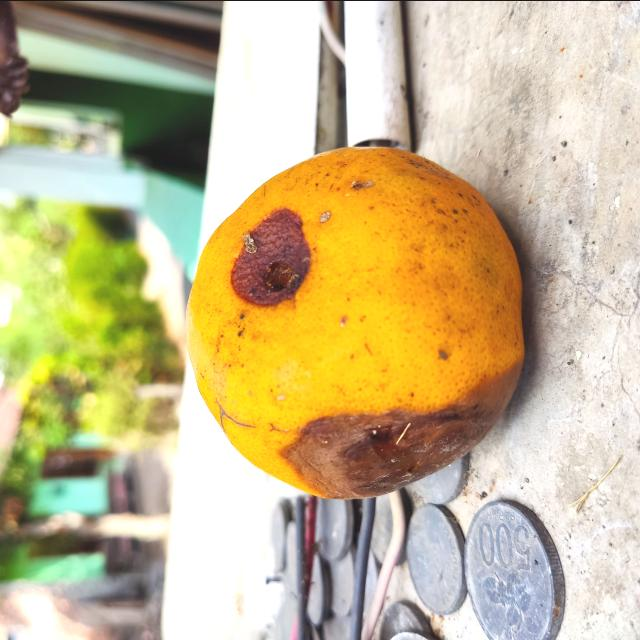orange: (184, 141, 525, 504)
